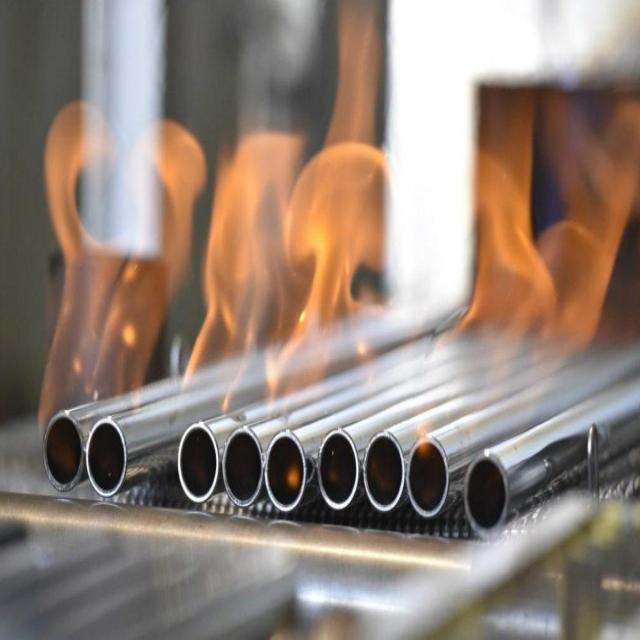pipe: (319, 432, 359, 510), (365, 435, 405, 512), (223, 432, 263, 506), (266, 437, 305, 512), (467, 460, 507, 530), (409, 443, 448, 512), (179, 428, 217, 498), (86, 424, 125, 492), (44, 419, 82, 486)
